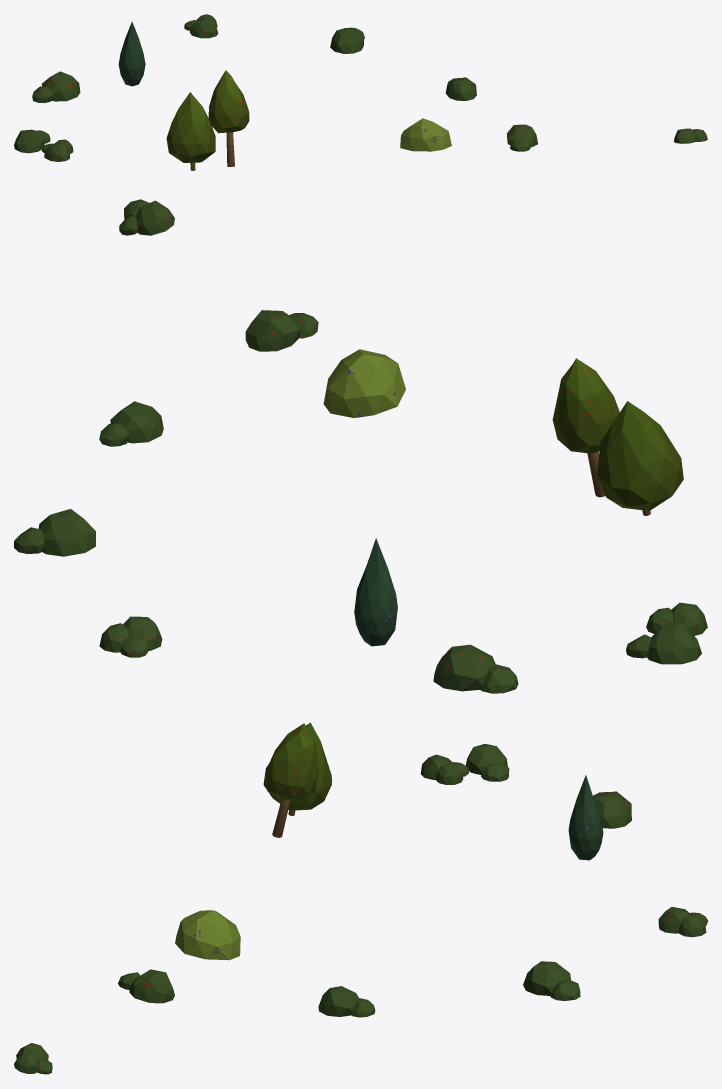
File: Bushes13.gltf
3 renders of one model, top to bottom at view 1: azimuth 30°, elevation 25°; view 2: azimuth 150°, elevation 25°; view 3: azimuth 270°, elevation 25°, orthographic. The views are drawn at different scales.
Parts seen in each view (by area): view 1: Hollytree2 - copy.015, Hollytree1 - copy.018, ElderberryBush2 - copy.014, JuniperBush2 - copy.020, StrawberryBush2 - copy.013, StrawberryBush1 - copy.013, StrawberryBush2 - copy.011, StrawberryBush1 - copy.016, StrawberryBush1 - copy.025, StrawberryBush3 - copy.017, StrawberryBush3 - copy.012, StrawberryBush3 - copy.018; view 2: Hollytree2 - copy.015, Hollytree1 - copy.018, ElderberryBush2 - copy.014, JuniperBush2 - copy.020, StrawberryBush2 - copy.013, StrawberryBush1 - copy.013, StrawberryBush2 - copy.011, StrawberryBush1 - copy.016, StrawberryBush1 - copy.025, StrawberryBush3 - copy.017, StrawberryBush3 - copy.018, StrawberryBush3 - copy.012; view 3: Hollytree1 - copy.018, ElderberryBush2 - copy.014, JuniperBush2 - copy.020, StrawberryBush1 - copy.013, StrawberryBush2 - copy.011, Hollytree2 - copy.015, StrawberryBush1 - copy.025, StrawberryBush1 - copy.016, StrawberryBush3 - copy.017, StrawberryBush2 - copy.013, StrawberryBush3 - copy.012, StrawberryBush3 - copy.018.
Boxes of the visible parts, x1=… form: Hollytree2 - copy.015: x1=166, y1=92, x2=215, y2=170; Hollytree1 - copy.018: x1=208, y1=70, x2=249, y2=166; ElderberryBush2 - copy.014: x1=400, y1=118, x2=451, y2=151; JuniperBush2 - copy.020: x1=118, y1=21, x2=145, y2=86; StrawberryBush2 - copy.013: x1=32, y1=71, x2=80, y2=103; StrawberryBush1 - copy.013: x1=330, y1=27, x2=364, y2=53; StrawberryBush2 - copy.011: x1=506, y1=124, x2=537, y2=151; StrawberryBush1 - copy.016: x1=14, y1=129, x2=50, y2=153; StrawberryBush1 - copy.025: x1=445, y1=77, x2=476, y2=100; StrawberryBush3 - copy.017: x1=184, y1=14, x2=218, y2=38; StrawberryBush3 - copy.012: x1=41, y1=139, x2=73, y2=161; StrawberryBush3 - copy.018: x1=673, y1=128, x2=707, y2=143; Hollytree2 - copy.015: x1=597, y1=401, x2=683, y2=515; Hollytree1 - copy.018: x1=552, y1=358, x2=619, y2=497; ElderberryBush2 - copy.014: x1=323, y1=349, x2=405, y2=417; JuniperBush2 - copy.020: x1=354, y1=538, x2=397, y2=646; StrawberryBush2 - copy.013: x1=433, y1=644, x2=518, y2=693; StrawberryBush1 - copy.013: x1=14, y1=509, x2=95, y2=556; StrawberryBush2 - copy.011: x1=245, y1=310, x2=318, y2=351; StrawberryBush1 - copy.016: x1=626, y1=623, x2=701, y2=664; StrawberryBush1 - copy.025: x1=99, y1=401, x2=163, y2=446; StrawberryBush3 - copy.017: x1=99, y1=616, x2=162, y2=657; StrawberryBush3 - copy.018: x1=119, y1=199, x2=174, y2=235; StrawberryBush3 - copy.012: x1=646, y1=602, x2=707, y2=635; Hollytree1 - copy.018: x1=264, y1=723, x2=318, y2=837; ElderberryBush2 - copy.014: x1=175, y1=910, x2=240, y2=960; JuniperBush2 - copy.020: x1=568, y1=775, x2=603, y2=860; StrawberryBush1 - copy.013: x1=523, y1=961, x2=580, y2=1000; StrawberryBush2 - copy.011: x1=118, y1=969, x2=174, y2=1003; Hollytree2 - copy.015: x1=263, y1=722, x2=331, y2=815; StrawberryBush1 - copy.025: x1=318, y1=986, x2=375, y2=1017; StrawberryBush1 - copy.016: x1=465, y1=744, x2=509, y2=781; StrawberryBush3 - copy.017: x1=658, y1=907, x2=707, y2=937; StrawberryBush2 - copy.013: x1=593, y1=791, x2=631, y2=828; StrawberryBush3 - copy.012: x1=420, y1=754, x2=468, y2=784; StrawberryBush3 - copy.018: x1=14, y1=1043, x2=52, y2=1074.
Size of the model in its own units: 25.8 by 4.58 by 22.76.
7 materials, 7 textured.
